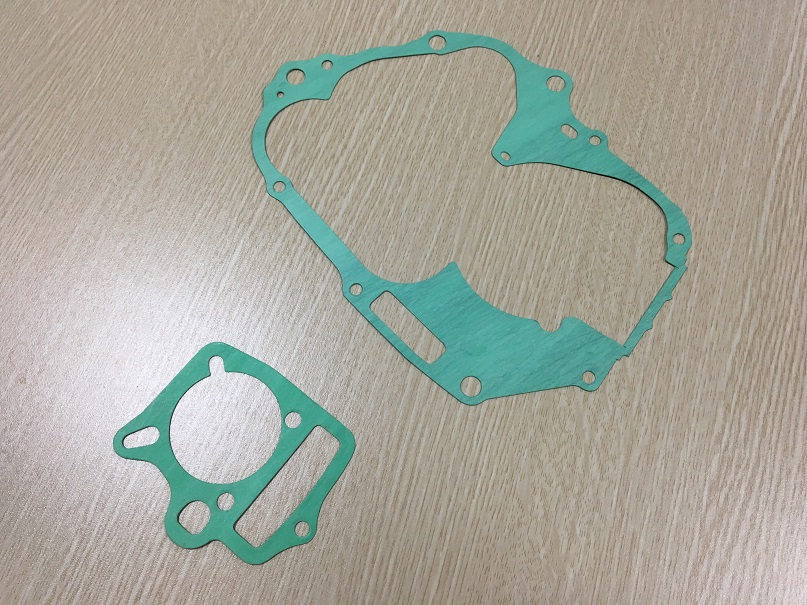type3: (246, 24, 696, 409)
type4: (108, 331, 359, 570)
